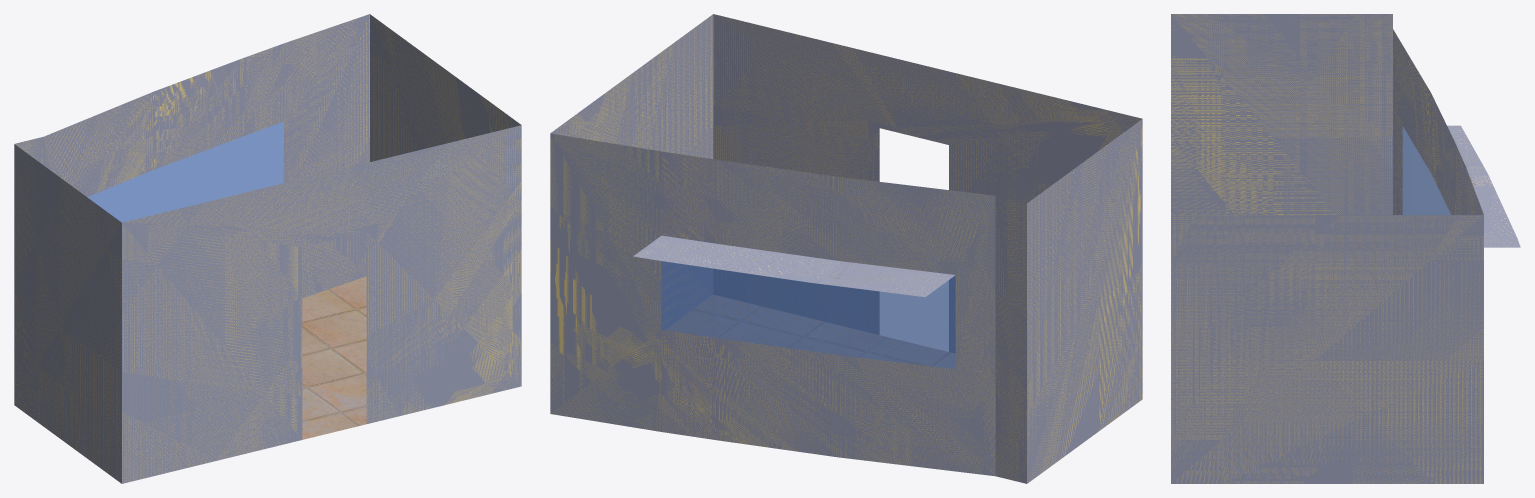
File: LAB026.obj
3 renders of one model, left to right at view 1: azimuth 30°, elevation 25°; view 2: azimuth 150°, elevation 25°; view 3: azimuth 270°, elevation 25°, orthographic. The views are drawn at different scales.
Parts seen in each view (by area): view 1: Mesh1 DES026 Model; view 2: Mesh1 DES026 Model; view 3: Mesh1 DES026 Model.
Part boxes in pixels (left/top/right/bottom): Mesh1 DES026 Model: left=14, top=14, right=521, bottom=483; Mesh1 DES026 Model: left=550, top=14, right=1142, bottom=483; Mesh1 DES026 Model: left=1171, top=14, right=1520, bottom=483.
Size of the model in its own units: 4.81 by 3 by 3.54.
Materials: 5 (2 with a texture image).
